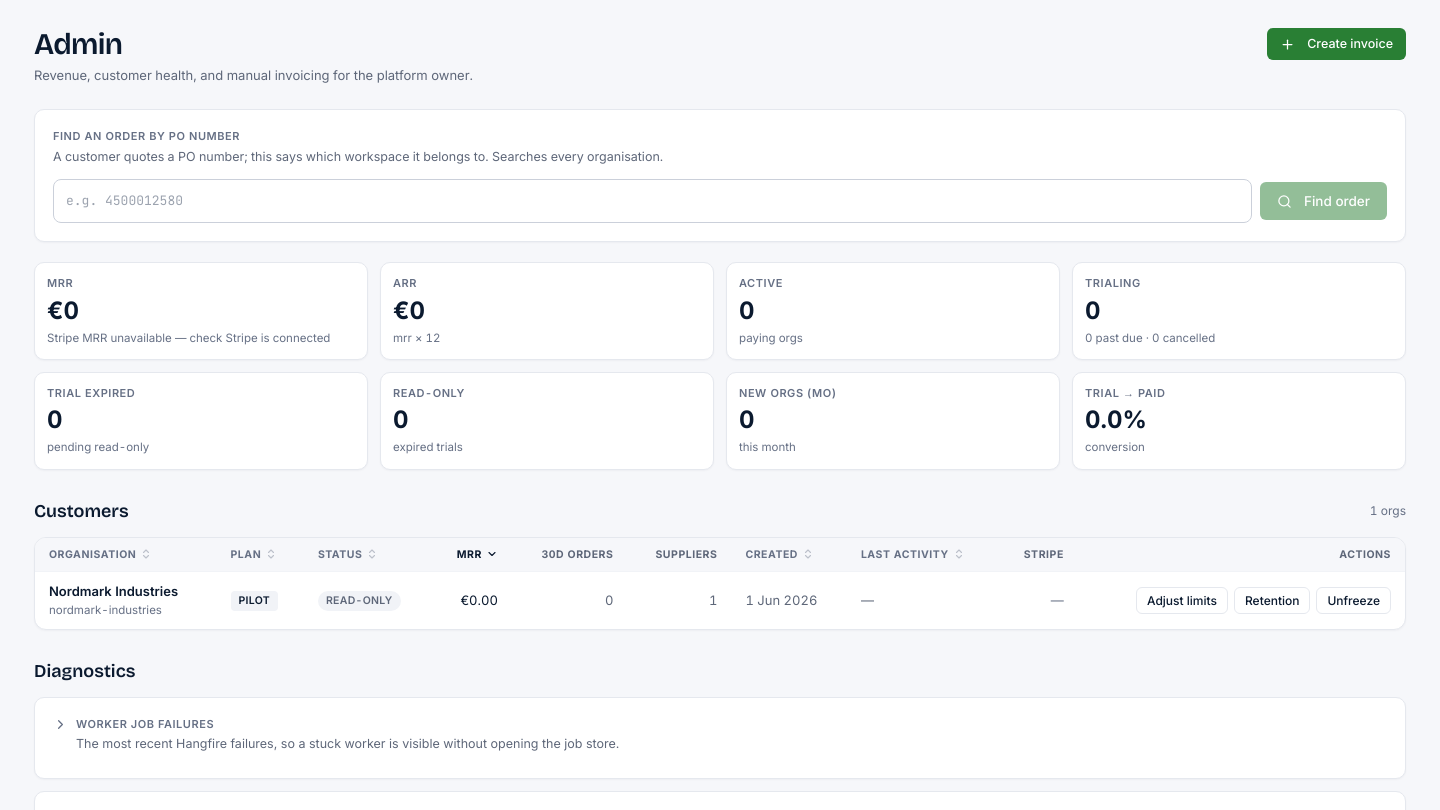
Test case: admin — retention is confirmed in words that name the deletion › states that the next sweep permanently deletes stored files
The image size is (1440, 810).
Check: the heading "Customers" is shown, box [34,498,129,525]
Click the button "Retention" at (1272, 601), box [1234,587,1310,614]
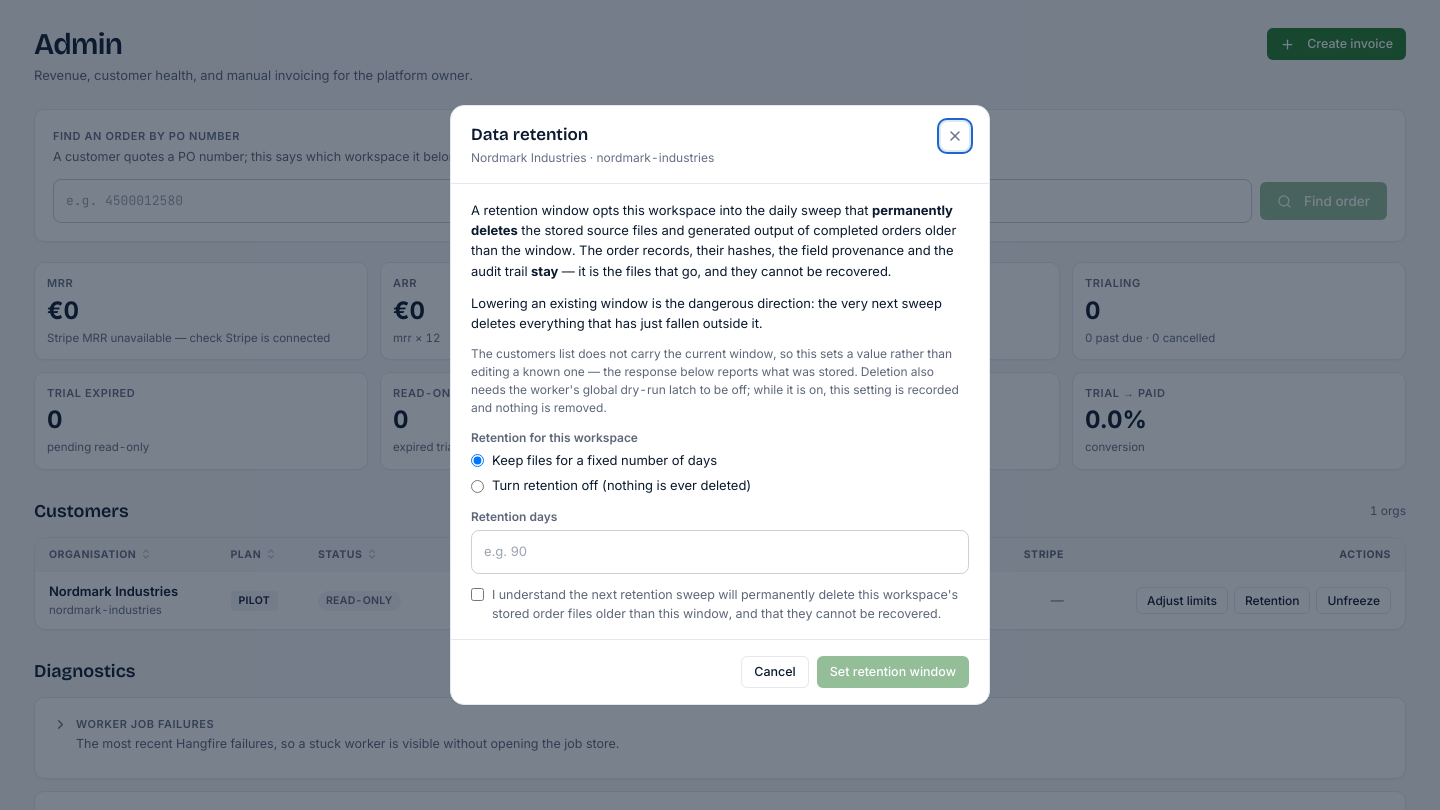
Check: the dialog with test id "admin-retention-modal" shows "permanently delete", box [492,587,958,621]
